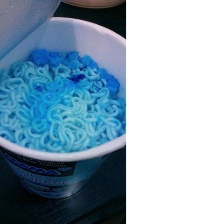paper_cup: (0, 0, 125, 204)
